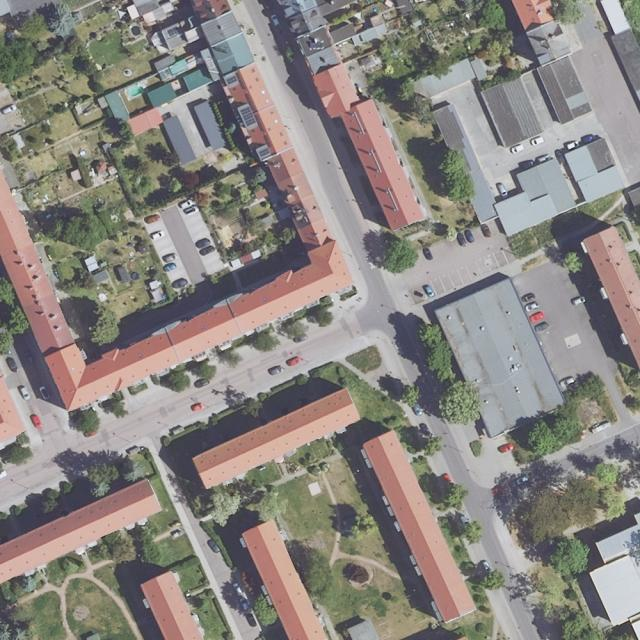PV: (240, 104, 257, 126), (166, 24, 182, 38), (225, 75, 238, 86), (259, 146, 271, 157)
